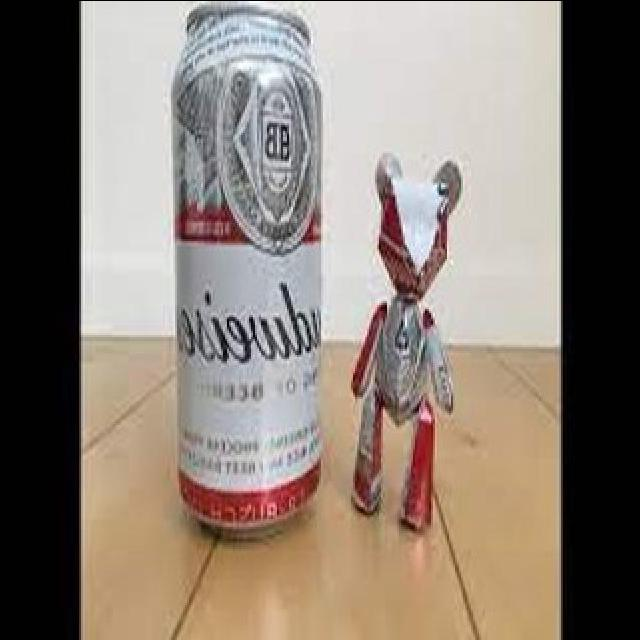can: (160, 7, 326, 534)
